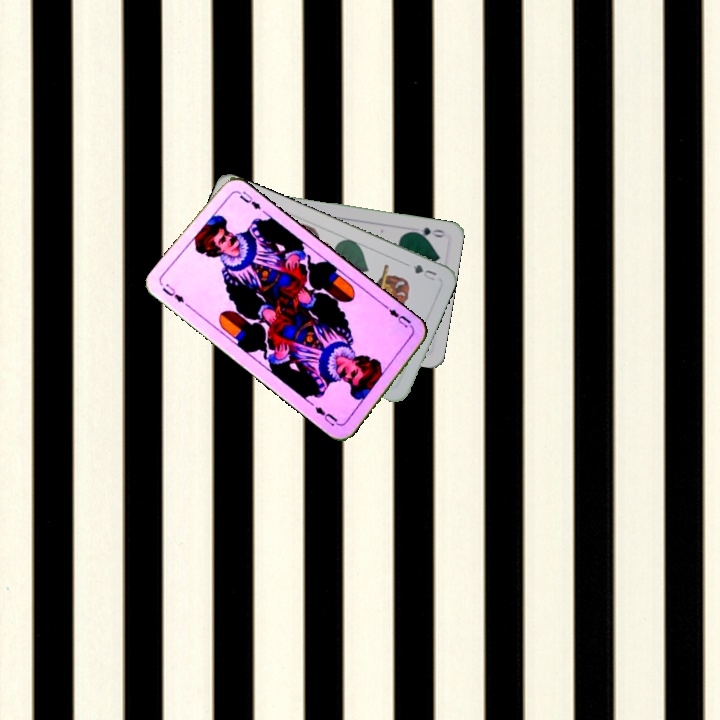EU: (382, 302, 416, 333), (158, 280, 187, 305)
GO: (407, 223, 448, 241)
GU: (407, 260, 439, 283)
